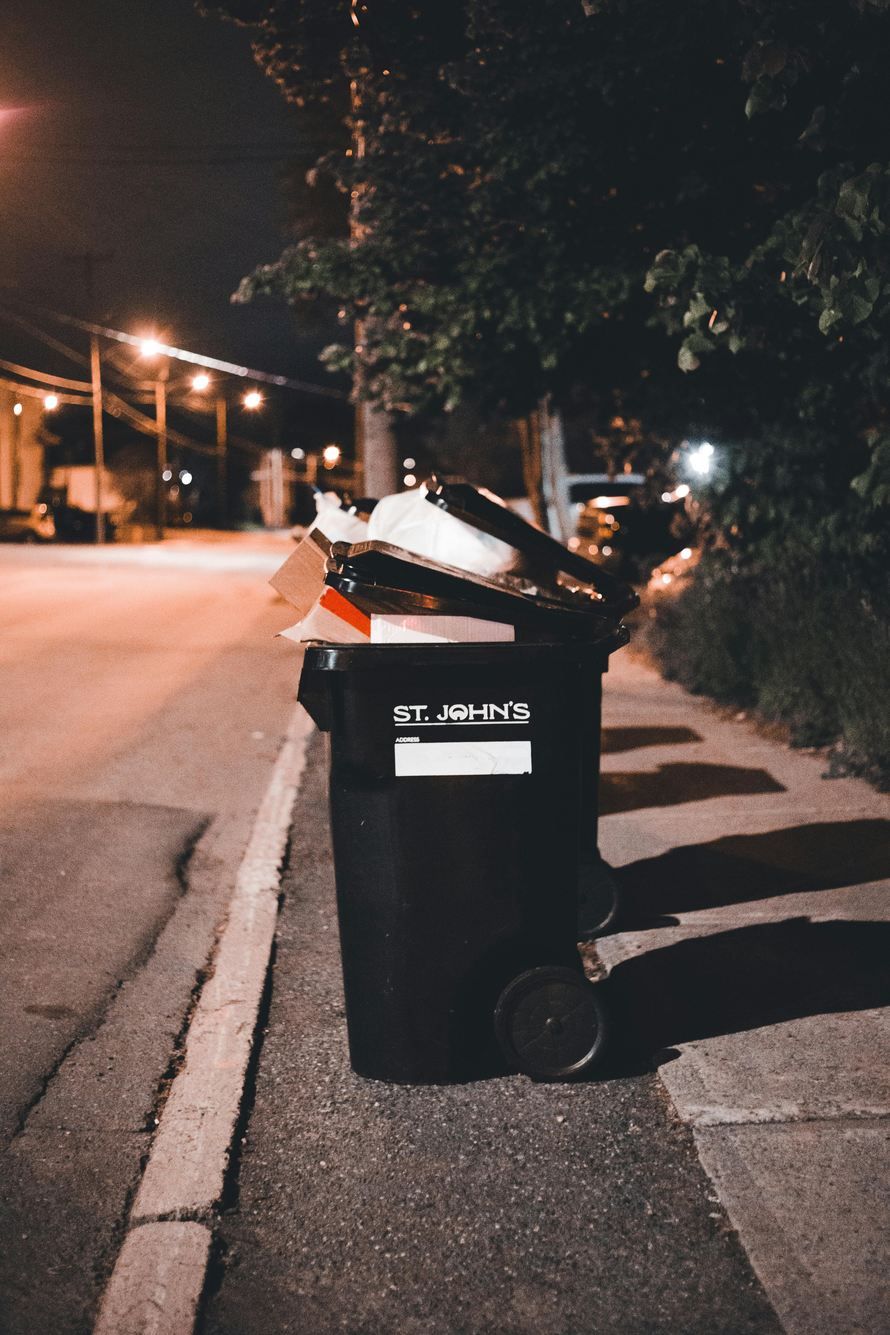TrashBin: (266, 456, 659, 1107)
